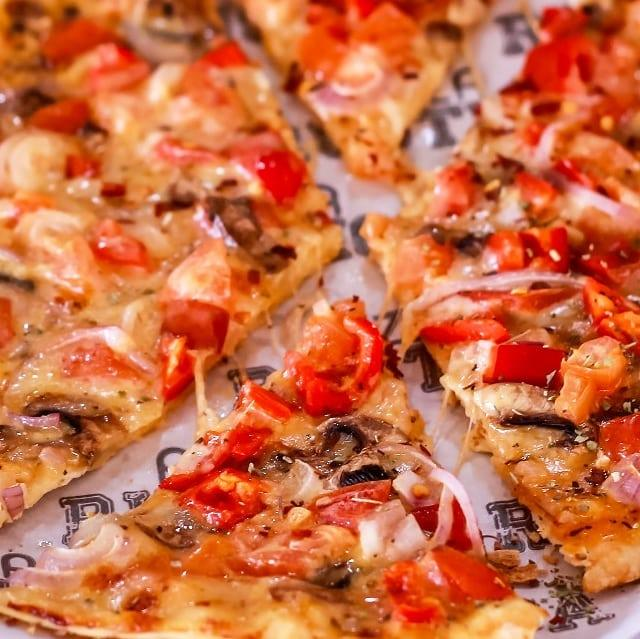Mushroom: (291, 411, 431, 482), (5, 386, 111, 463), (160, 172, 260, 243), (491, 379, 576, 445), (125, 7, 215, 68), (420, 218, 497, 256), (137, 505, 200, 550)
Onion: (3, 517, 141, 591), (392, 269, 595, 314), (422, 463, 491, 563), (349, 498, 427, 565), (568, 178, 640, 232), (303, 61, 393, 103), (603, 452, 640, 512), (0, 478, 34, 527)
Peppers: (277, 301, 390, 421), (382, 543, 514, 624), (195, 376, 295, 458), (155, 299, 229, 395), (173, 460, 268, 532), (517, 26, 610, 95), (45, 19, 149, 77), (483, 218, 572, 278), (315, 476, 395, 534), (576, 278, 640, 347), (480, 338, 564, 390), (565, 228, 640, 280), (410, 311, 507, 350), (414, 494, 475, 555), (257, 144, 315, 207), (25, 87, 92, 138), (82, 222, 155, 268), (429, 158, 480, 221), (510, 172, 563, 226), (590, 409, 640, 459), (195, 36, 257, 75), (544, 151, 598, 193), (57, 147, 105, 188), (534, 3, 589, 38)
Pizza: (0, 0, 640, 639)
